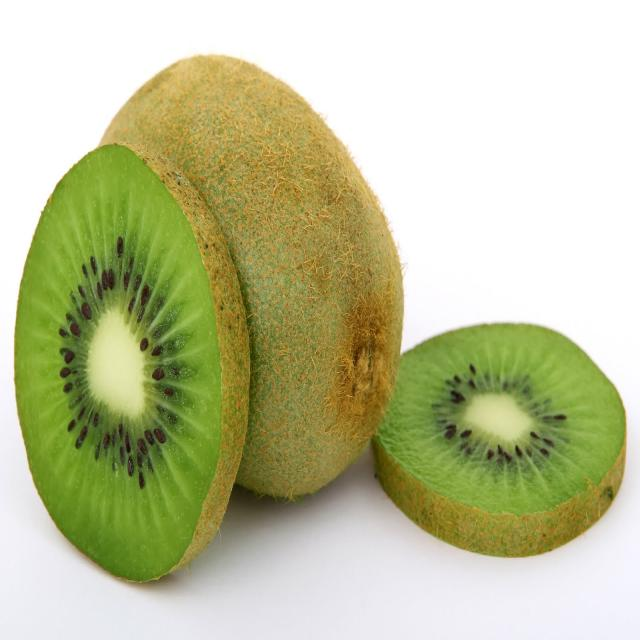kiwi: (97, 53, 406, 498), (13, 142, 251, 584), (369, 323, 632, 563)
